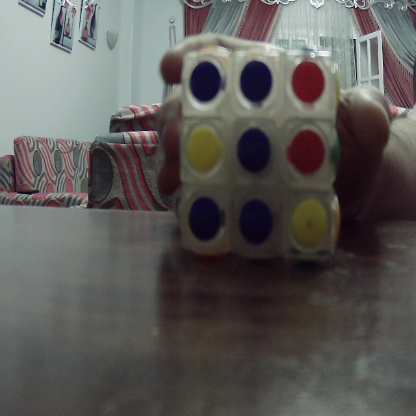Rubix Cube: (183, 45, 342, 262)
